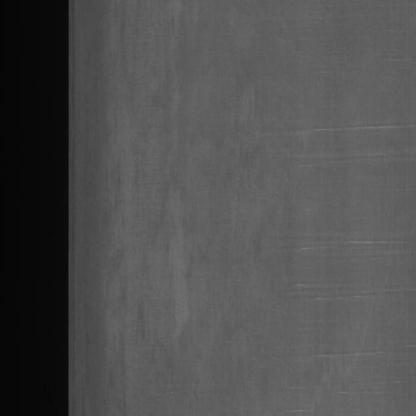waist_folding: (264, 40, 396, 389)
